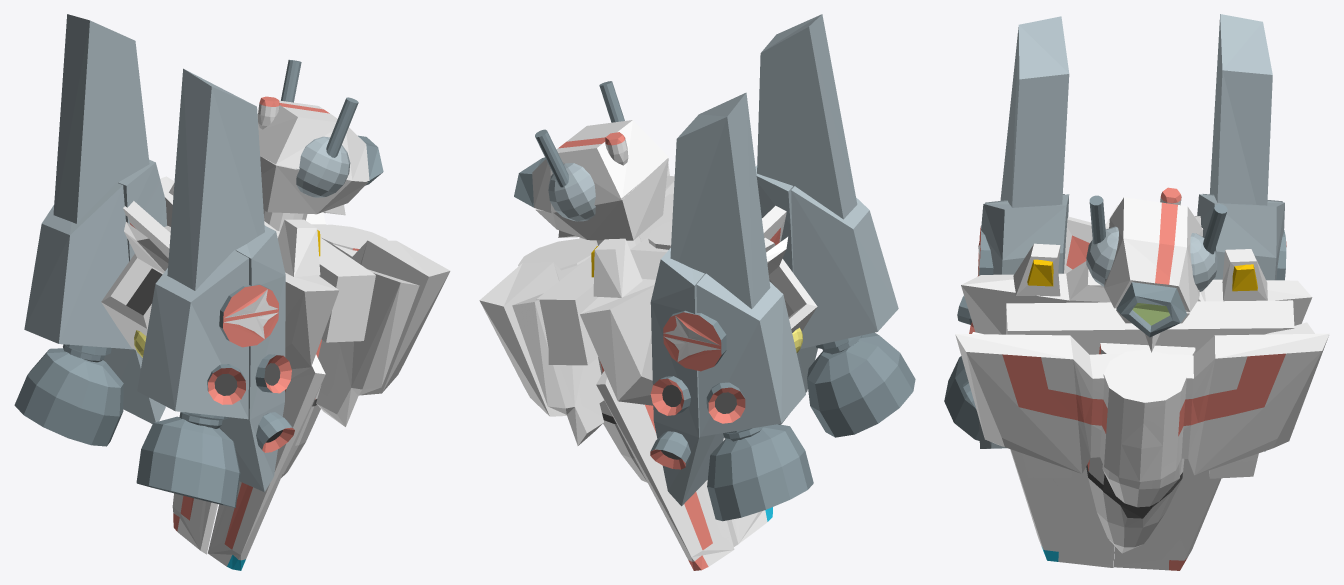
The model's file is BlueRobot.fbx.
3 views of the same model, side by side, from view 1: azimuth 30°, elevation 25°; view 2: azimuth 150°, elevation 25°; view 3: azimuth 270°, elevation 25° (orthographic). The views are drawn at different scales.
Visible parts, largest first — view 1: group_1032410741, group_2067570990, group_620673946, mesh_2108078721, mesh_1858851153, mesh_603653758, mesh_1468392458, mesh_643757122, mesh_1499546384, mesh_1839868933, mesh_530455939, mesh_2062266591 (+2 smaller); view 2: group_2067570990, group_1032410741, group_620673946, mesh_1468392458, mesh_530455939, mesh_437161499, mesh_1499546384, mesh_683052847, mesh_1947643047, mesh_643757122, mesh_851628854, mesh_955622477 (+2 smaller); view 3: group_1032410741, mesh_603653758, mesh_683052847, group_2067570990, group_620673946, mesh_851628854, mesh_1499546384, mesh_1858851153, mesh_1468392458, mesh_530455939, mesh_955622477, mesh_1265875511 (+7 smaller).
Boxes of the visible parts, x1,y1,x2,y2 form: group_1032410741: (136, 68, 294, 507); group_2067570990: (14, 14, 167, 446); group_620673946: (257, 59, 383, 215); mesh_2108078721: (316, 269, 419, 426); mesh_1858851153: (207, 354, 325, 570); mesh_603653758: (332, 240, 450, 395); mesh_1468392458: (160, 176, 339, 378); mesh_643757122: (101, 222, 168, 350); mesh_1499546384: (278, 231, 375, 342); mesh_1839868933: (277, 219, 320, 276); mesh_530455939: (172, 493, 217, 554); mesh_2062266591: (123, 201, 170, 258); group_2067570990: (650, 92, 813, 521); group_1032410741: (755, 14, 915, 437); group_620673946: (514, 81, 668, 240); mesh_1468392458: (580, 220, 672, 405); mesh_530455939: (596, 371, 734, 570); mesh_437161499: (512, 293, 604, 445); mesh_1499546384: (536, 194, 673, 365); mesh_683052847: (479, 261, 583, 416); mesh_1947643047: (593, 238, 642, 297); mesh_643757122: (766, 237, 817, 332); mesh_851628854: (518, 239, 596, 270); mesh_955622477: (598, 357, 647, 482); group_1032410741: (944, 16, 1069, 448); mesh_603653758: (955, 334, 1122, 473); mesh_683052847: (1167, 333, 1329, 475); group_2067570990: (1197, 14, 1286, 451); group_620673946: (1086, 187, 1227, 352); mesh_851628854: (1100, 349, 1186, 481); mesh_1499546384: (1006, 300, 1294, 354); mesh_1858851153: (1010, 449, 1114, 567); mesh_1468392458: (961, 261, 1312, 334); mesh_530455939: (1114, 459, 1221, 570); mesh_955622477: (1086, 343, 1195, 553); mesh_1265875511: (1102, 458, 1181, 507).
Bounding box in the file's own units: 297 × 452 × 300.
